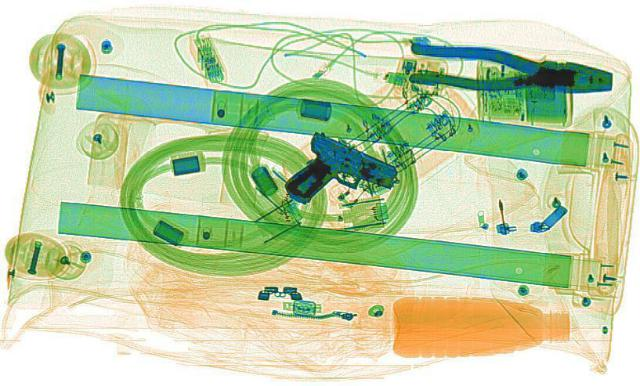Gun: (248, 128, 414, 218)
Pliers: (398, 38, 620, 99)
